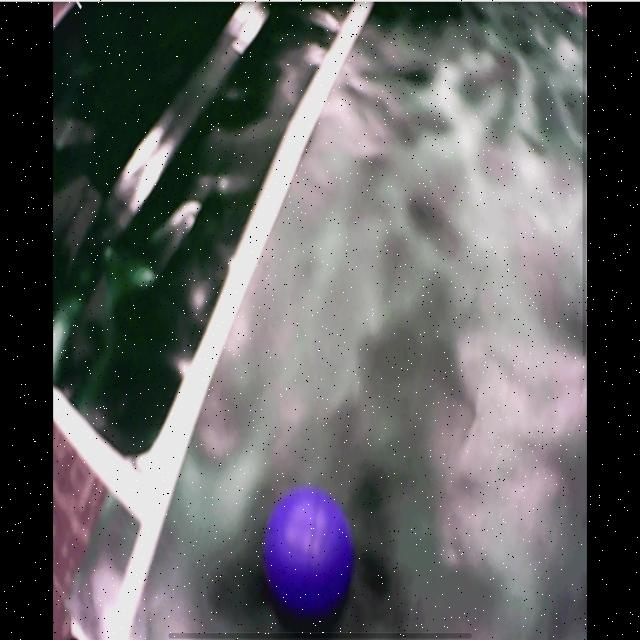ball: (266, 489, 352, 615)
